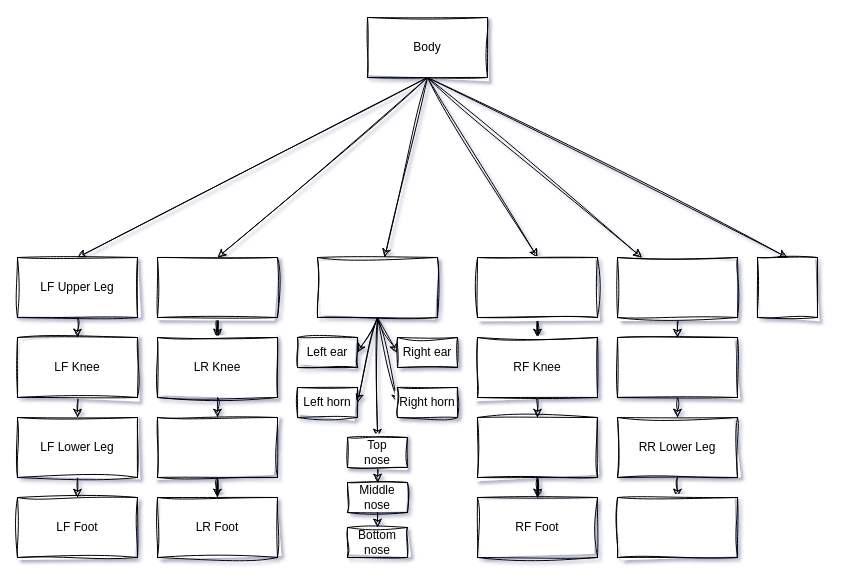
This 841x581 diagram has some shape labels left out. Here are the shapes that lost their labels. From the top down, the centre of each, then its label:
pixel 217 287: LR Upper Leg
pixel 377 287: Head
pixel 537 287: RF Upper Leg
pixel 677 287: RR Upper Leg
pixel 787 287: Tail
pixel 677 367: RR Knee
pixel 217 447: LR Lower Leg
pixel 537 447: RF Lower Leg
pixel 677 527: RR Foot
